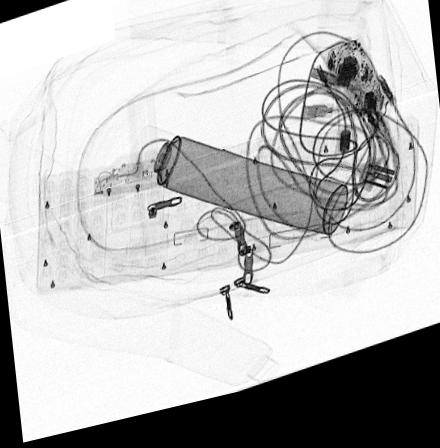Sprayer: (125, 129, 346, 250)
